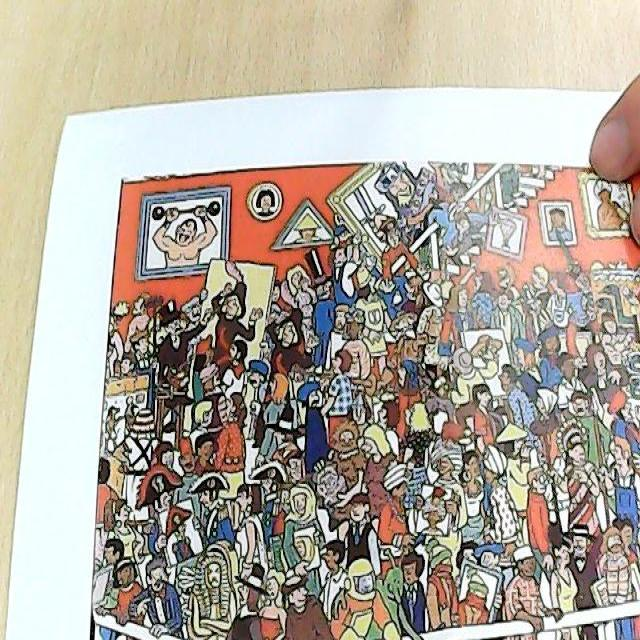waldo: (276, 447, 307, 486)
